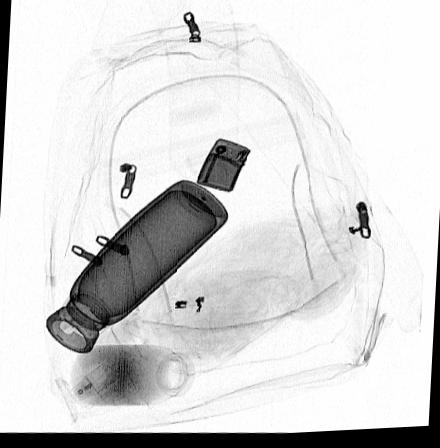Lighter: (194, 141, 251, 195)
